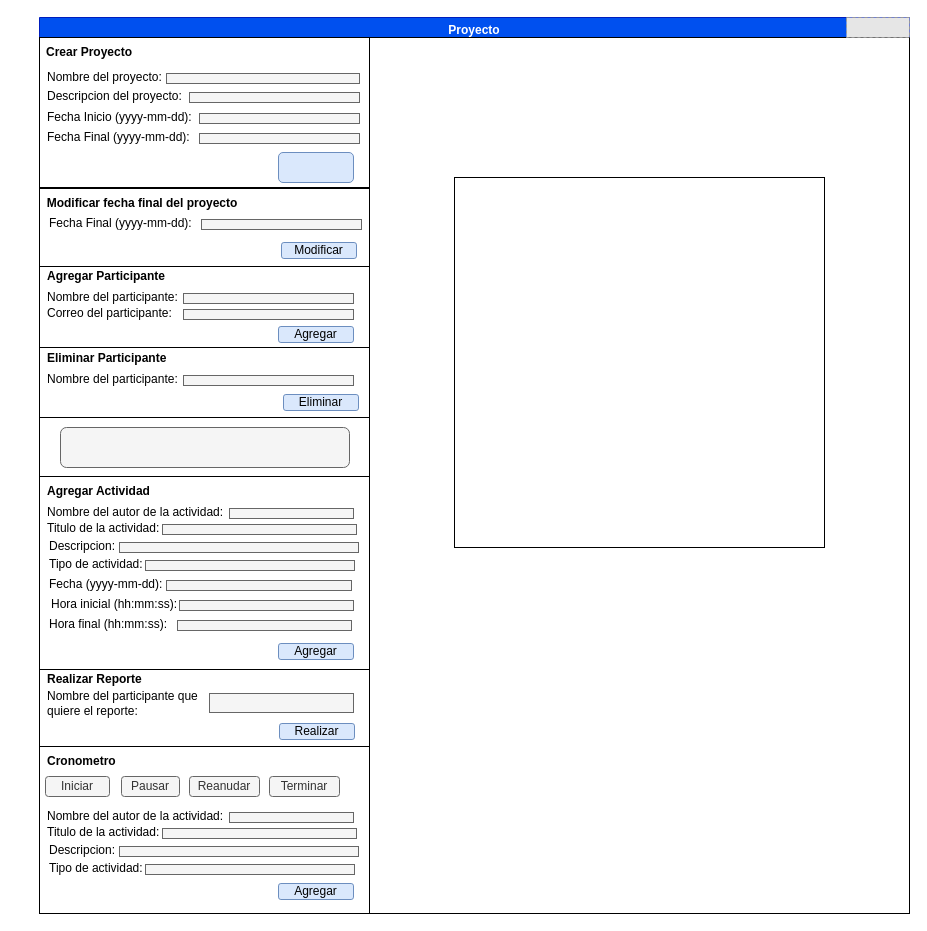
The diagram is 927 pixels wide and 931 high, and some of its shapes have lost their labels. Grey dashed boxes stand in for pictures. The shapes that lost their labels are listed below. From the top down, each one's centre as x and y in pixels, then its label:
[316,167]: Crear
[639,362]: Matriz de actividades de Github
[205,447]: Mostrar información del proyecto
